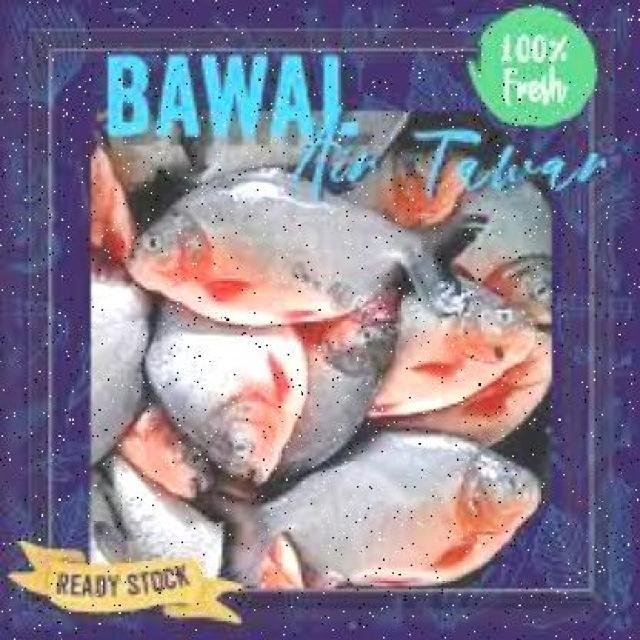ikan-pacu: (224, 427, 533, 596), (133, 165, 404, 322), (144, 306, 306, 472), (372, 280, 530, 426)
